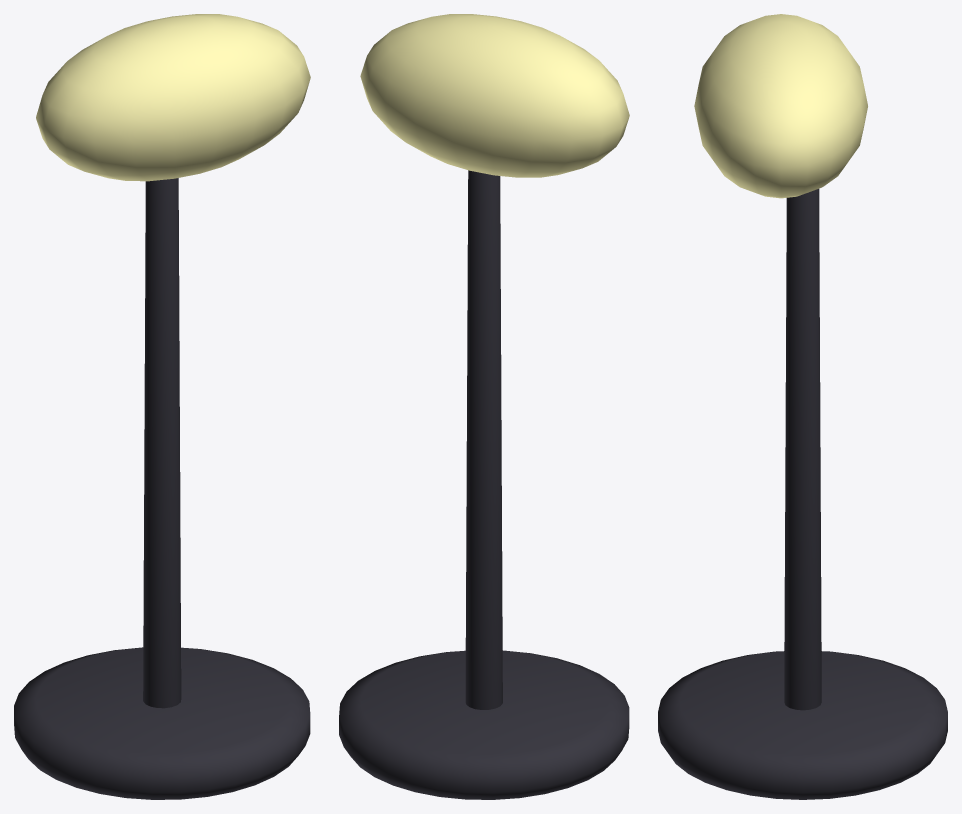
File: workbench_lamp.glb
The picture shows the model from 3 angles, left to right: view 1: azimuth 30°, elevation 25°; view 2: azimuth 150°, elevation 25°; view 3: azimuth 270°, elevation 25°; orthographic projection. The views are drawn at different scales.
Visible parts, largest first — view 1: Oval_luminous_head, Lamp_foot, Lamp_stem; view 2: Oval_luminous_head, Lamp_foot, Lamp_stem; view 3: Lamp_foot, Oval_luminous_head, Lamp_stem.
Boxes of the visible parts, bbox=[...] form: Oval_luminous_head: bbox=[36, 14, 310, 181]; Lamp_foot: bbox=[14, 647, 310, 799]; Lamp_stem: bbox=[143, 178, 181, 708]; Oval_luminous_head: bbox=[360, 14, 629, 177]; Lamp_foot: bbox=[339, 650, 629, 799]; Lamp_stem: bbox=[465, 170, 502, 709]; Lamp_foot: bbox=[658, 651, 947, 799]; Oval_luminous_head: bbox=[694, 14, 867, 198]; Lamp_stem: bbox=[784, 189, 821, 710].
Size of the model in its own units: 0.2025 by 0.5365 by 0.2.
